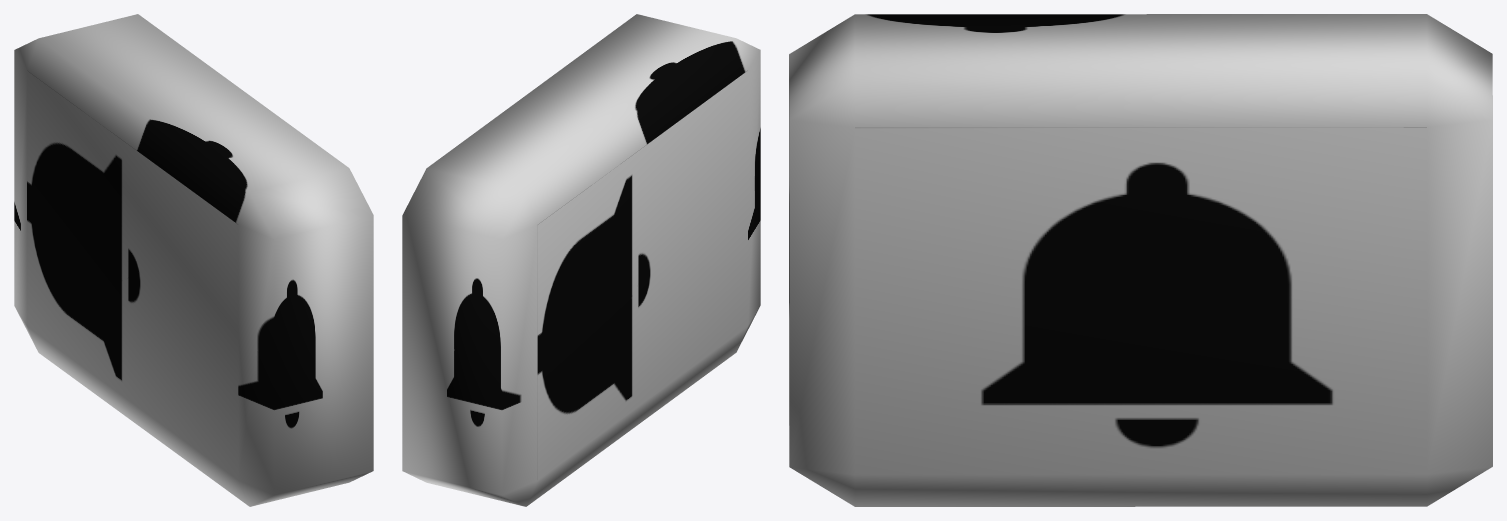
Rendered from Campana.fbx.
3 views of the same model, side by side, from view 1: azimuth 30°, elevation 25°; view 2: azimuth 150°, elevation 25°; view 3: azimuth 270°, elevation 25° (orthographic). The views are drawn at different scales.
Parts seen in each view (by area): view 1: BotonCampana; view 2: BotonCampana; view 3: BotonCampana.
Boxes of the visible parts, x1,y1,x2,y2 form: BotonCampana: (14, 14, 373, 506); BotonCampana: (402, 14, 760, 506); BotonCampana: (789, 14, 1492, 506).
Bounding box in the file's own units: 1.36 × 3.32 × 4.97.
